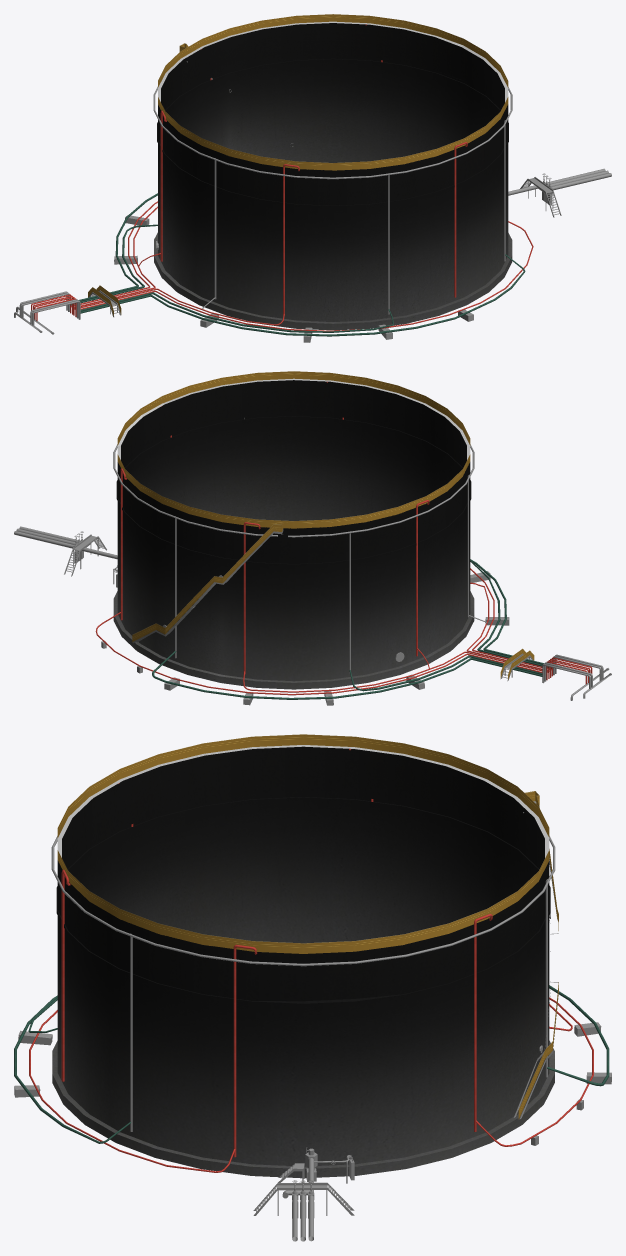
The model's file is guangti_01.FBX.
3 views of the same model, one above another, from view 1: azimuth 30°, elevation 25°; view 2: azimuth 150°, elevation 25°; view 3: azimuth 270°, elevation 25° (orthographic). The views are drawn at different scales.
Visible parts, largest first — view 1: Object03; view 2: Object03; view 3: Object03.
Part boxes in pixels (bbox=[...]): Object03: bbox=[14, 14, 611, 342]; Object03: bbox=[14, 371, 611, 705]; Object03: bbox=[14, 734, 611, 1241].
Size of the model in its own units: 99.65 by 63.47 by 27.25.
